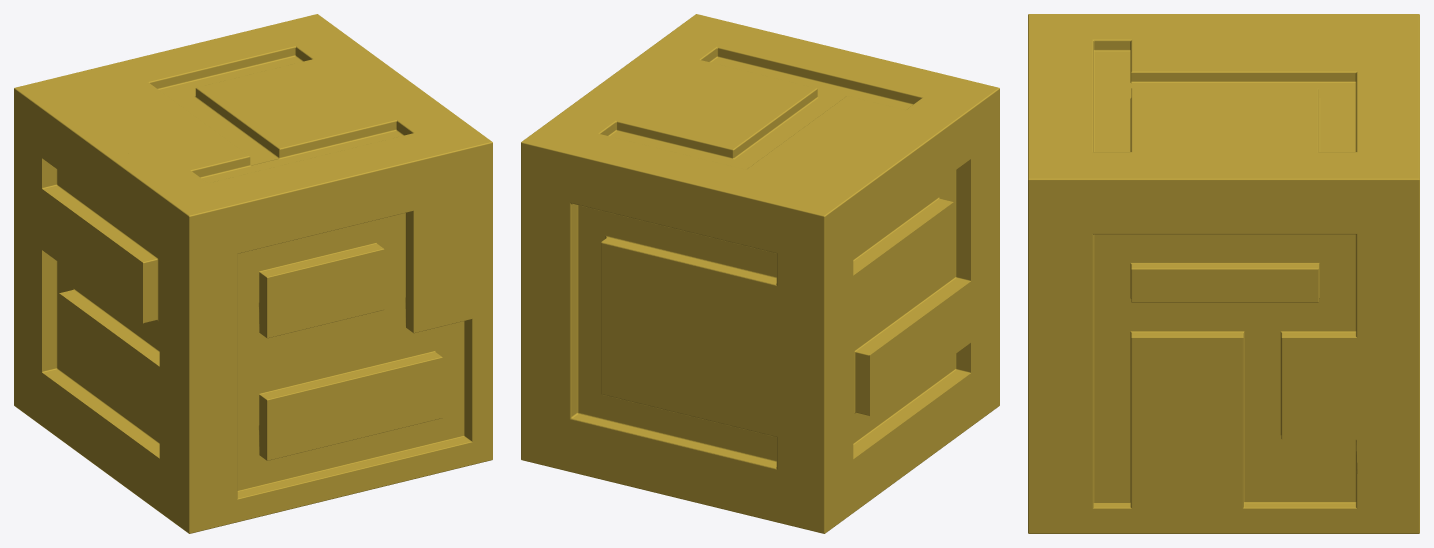
File: roos.glb
The picture shows the model from 3 angles, left to right: view 1: azimuth 30°, elevation 25°; view 2: azimuth 150°, elevation 25°; view 3: azimuth 270°, elevation 25°; orthographic projection. The views are drawn at different scales.
Parts seen in each view (by area): view 1: 立方体; view 2: 立方体; view 3: 立方体.
Boxes of the visible parts, x1,y1,x2,y2 form: 立方体: [14, 14, 492, 533]; 立方体: [521, 14, 999, 533]; 立方体: [1028, 14, 1419, 533].
Bounding box in the file's own units: 2 × 2 × 2.
